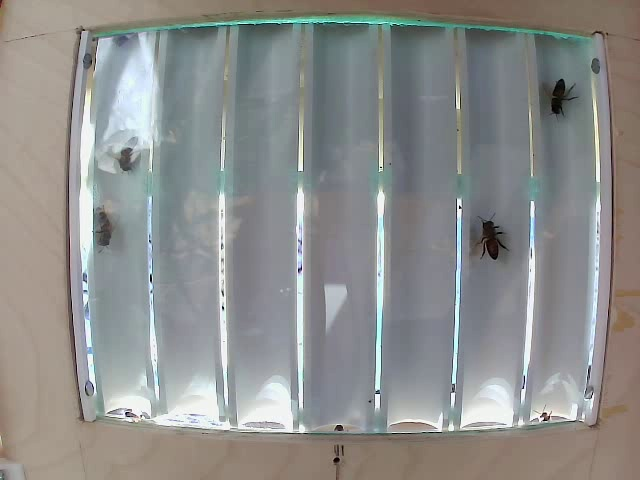bee: (463, 204, 514, 282), (539, 64, 573, 132), (89, 205, 124, 258)
